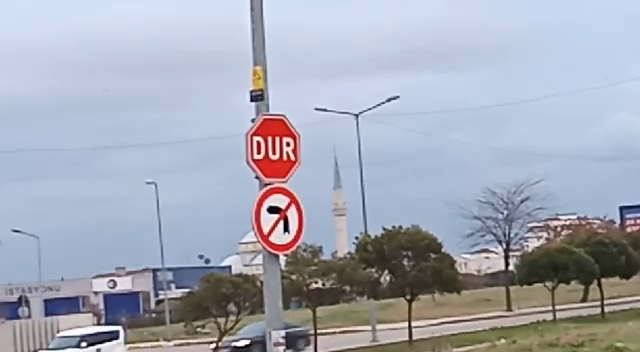no_left: (249, 183, 307, 258)
stop: (243, 111, 304, 187)
